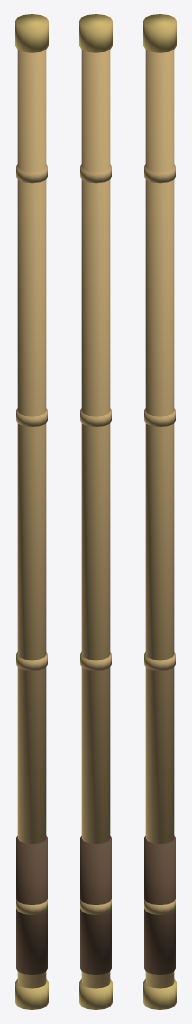
Rendered from lathi.glb.
3 renders of one model, left to right at view 1: azimuth 90°, elevation 25°; view 2: azimuth 150°, elevation 25°; view 3: azimuth 270°, elevation 25°, orthographic.
Visible parts, largest first — view 1: Lathi / Bamboo lathi, Lathi / Grip leather, Lathi / Lathi brass band; view 2: Lathi / Bamboo lathi, Lathi / Grip leather, Lathi / Lathi brass band; view 3: Lathi / Bamboo lathi, Lathi / Grip leather, Lathi / Lathi brass band.
Boxes of the visible parts, box(x1,y1,x2,y2) form: Lathi / Bamboo lathi: box(16, 49, 47, 988); Lathi / Grip leather: box(16, 836, 47, 974); Lathi / Lathi brass band: box(15, 14, 48, 1009); Lathi / Bamboo lathi: box(80, 49, 111, 988); Lathi / Grip leather: box(80, 836, 111, 974); Lathi / Lathi brass band: box(79, 14, 112, 1009); Lathi / Bamboo lathi: box(144, 49, 175, 988); Lathi / Grip leather: box(144, 836, 175, 974); Lathi / Lathi brass band: box(143, 14, 176, 1009).
Bounding box in the file's own units: 0.038 × 1.21 × 0.038.
